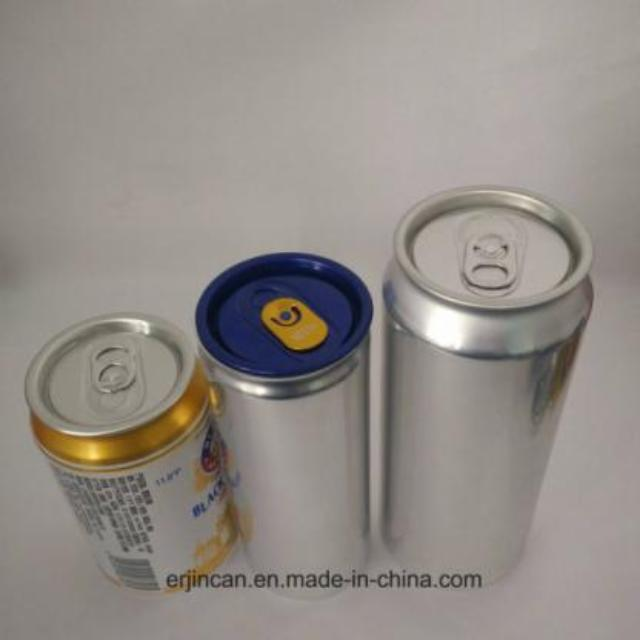metal: (382, 185, 589, 582), (194, 251, 369, 594), (23, 311, 234, 588)
